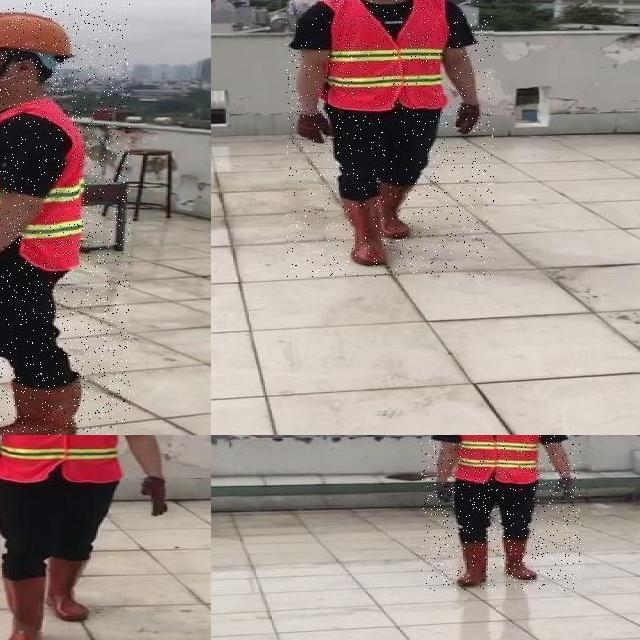BOOTS: (0, 376, 86, 435), (344, 198, 390, 267), (0, 575, 47, 640), (45, 557, 91, 622), (386, 185, 422, 240), (502, 538, 541, 579), (457, 542, 493, 585)
GLASS: (0, 51, 17, 69)
GLOVE: (297, 110, 332, 144), (141, 475, 170, 516), (455, 101, 482, 136), (552, 477, 575, 502), (436, 479, 453, 505)
HELMET: (0, 9, 76, 57)
VEST: (0, 99, 88, 270), (327, 0, 448, 111), (0, 435, 123, 485), (456, 435, 541, 482)
